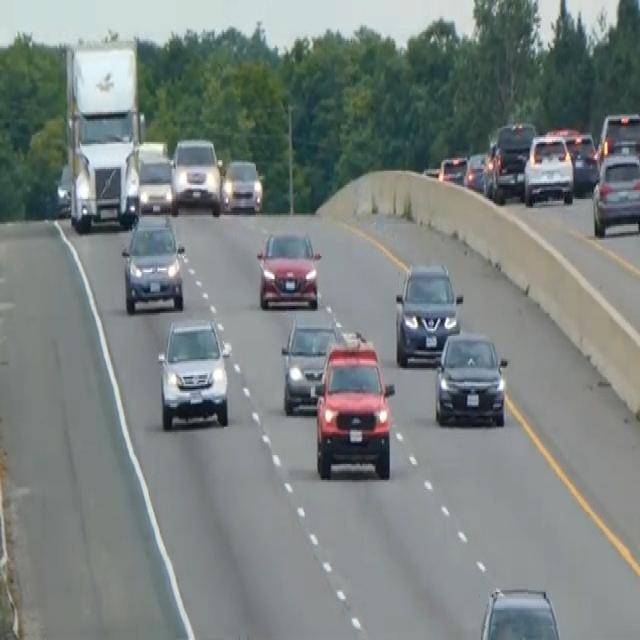car: (156, 315, 231, 430), (433, 329, 508, 428), (393, 260, 463, 366), (280, 306, 344, 414), (120, 212, 185, 314), (255, 226, 322, 309), (478, 583, 562, 638), (591, 150, 639, 236), (486, 119, 536, 201), (171, 135, 222, 215), (523, 132, 574, 206), (547, 124, 598, 192), (136, 151, 177, 215), (222, 156, 263, 214), (597, 108, 639, 162), (570, 132, 599, 192), (463, 149, 489, 192), (54, 160, 72, 217), (438, 153, 467, 185)
jeep: (311, 332, 396, 482)
lorry: (62, 32, 142, 233)
